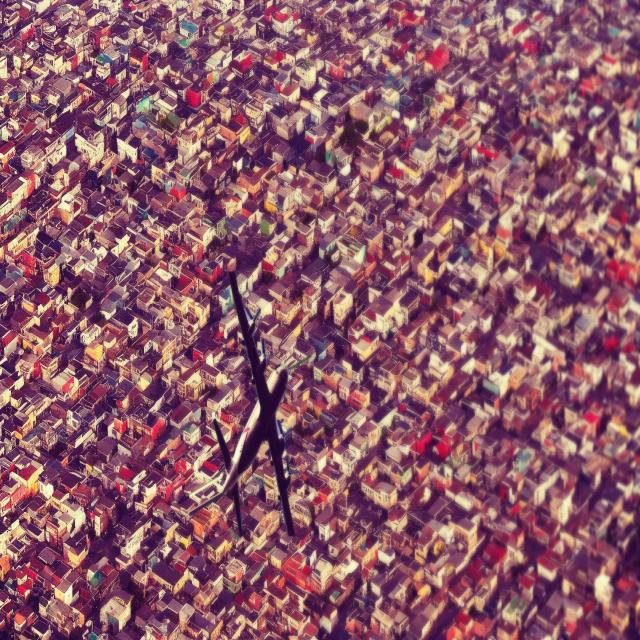airplane: (212, 263, 298, 538)
